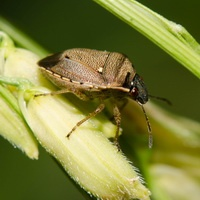insect: (38, 48, 151, 147)
